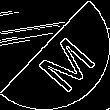M_NW: (19, 21, 91, 89)
